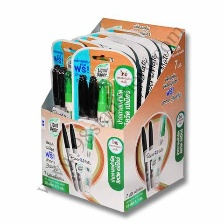book: (35, 16, 187, 215)
correction_fluid: (94, 77, 115, 187), (61, 70, 76, 174)
